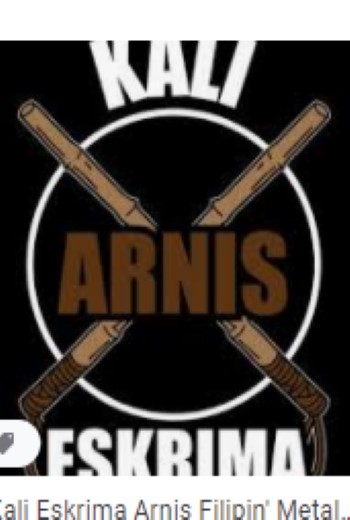baston_v: (6, 375, 57, 430), (296, 380, 342, 433), (12, 98, 62, 138), (300, 94, 340, 139)
